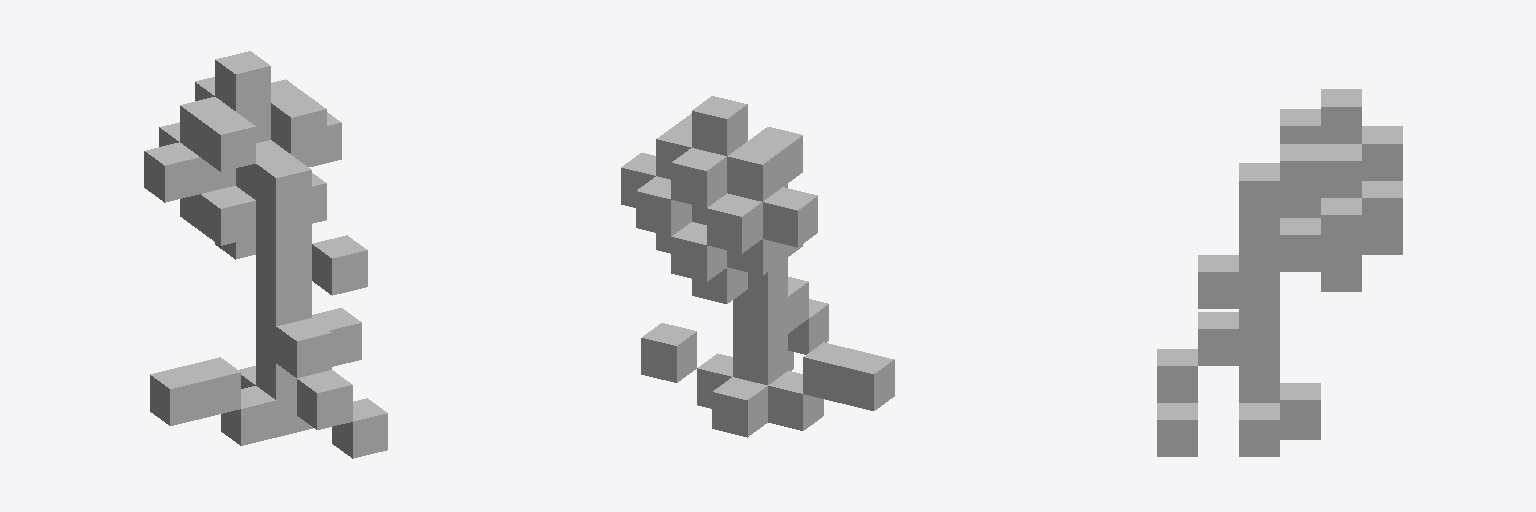
File: fleur bleue.obj
The picture shows the model from 3 angles: view 1: azimuth 30°, elevation 25°; view 2: azimuth 150°, elevation 25°; view 3: azimuth 270°, elevation 25°; orthographic projection.
Parts seen in each view (by area): view 1: object 1; view 2: object 1; view 3: object 1.
Boxes of the visible parts, box(x1,y1,x2,y2) form: object 1: box(144, 51, 387, 458); object 1: box(621, 96, 894, 437); object 1: box(1157, 89, 1402, 456).
Size of the model in its own units: 0.6 by 0.9 by 0.6.